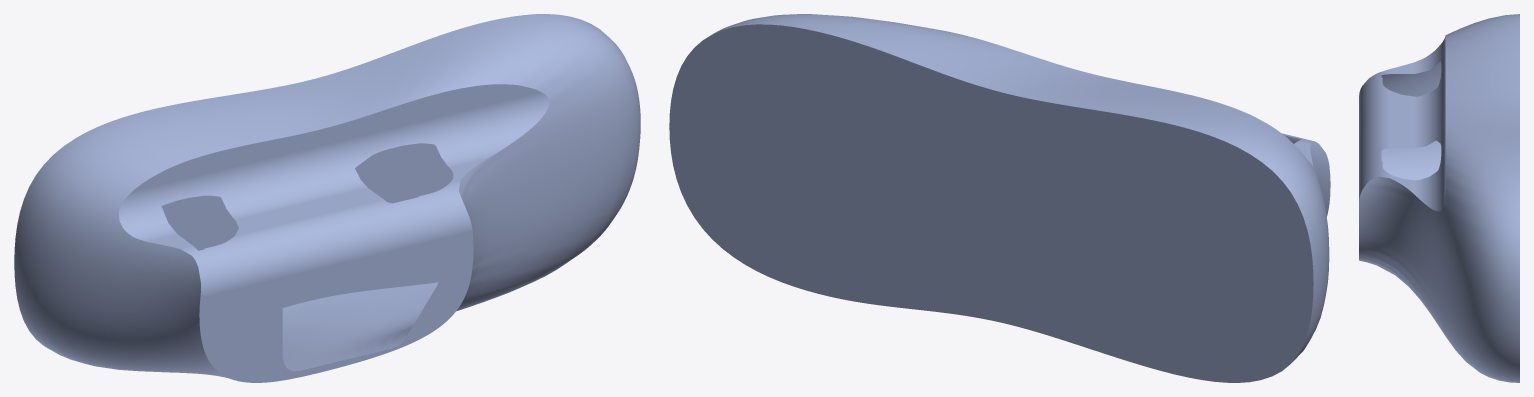
File: 小原子左脚.glb
The picture shows the model from 3 angles, left to right: view 1: azimuth 30°, elevation 25°; view 2: azimuth 150°, elevation 25°; view 3: azimuth 270°, elevation 25°; orthographic projection. The views are drawn at different scales.
Visible parts, largest first — view 1: NONE.002; view 2: NONE.002; view 3: NONE.002.
Part boxes in pixels (<box>): NONE.002: <box>14,14,640,382</box>; NONE.002: <box>669,14,1330,382</box>; NONE.002: <box>1359,14,1519,382</box>.
Size of the model in its own units: 0.181 by 0.0703 by 0.0511.
